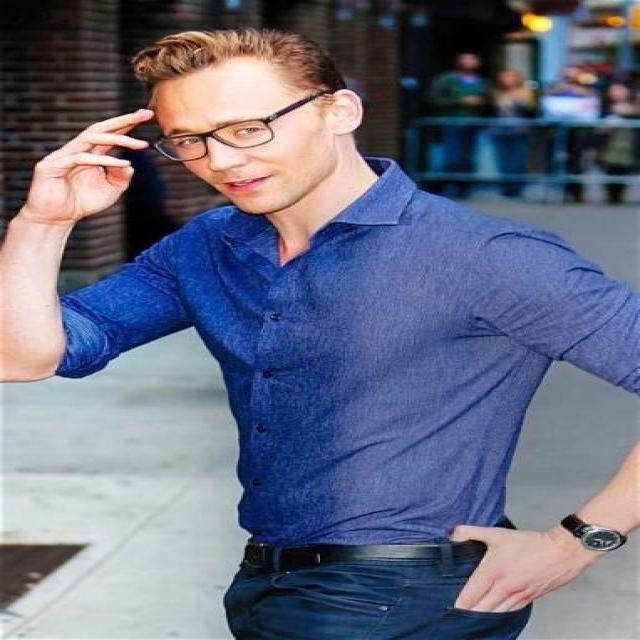glasses: (151, 88, 332, 162)
